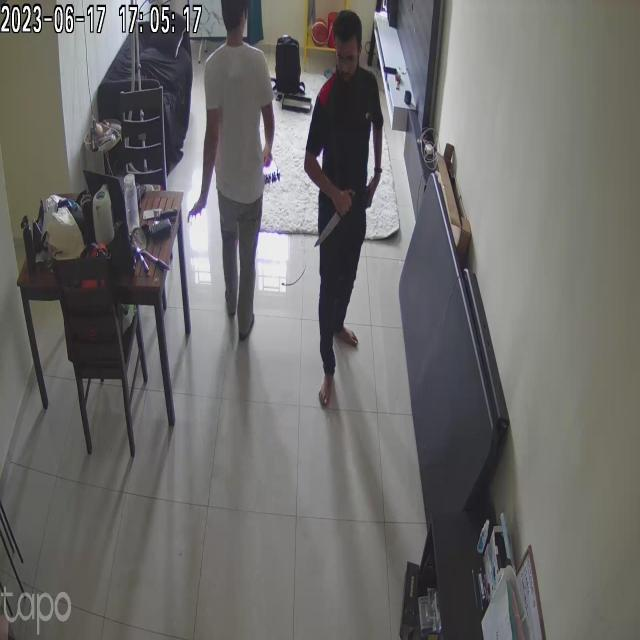Knife: (308, 206, 351, 251)
